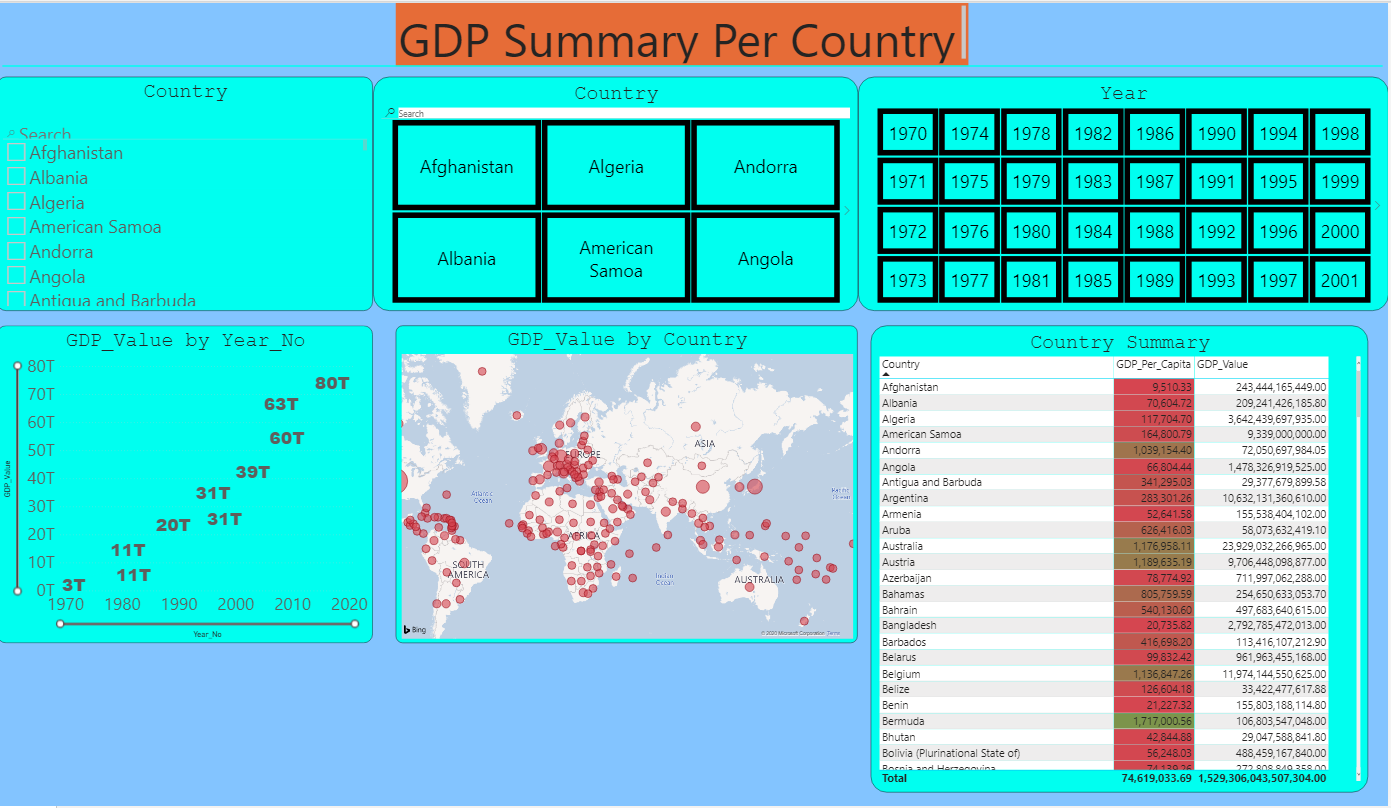

What the dashboard file says about the page in this screenshot:
{"tool":"powerbi","page":{"name":"Page 1","canvas":[2600,1500],"ordinal":0},"visuals":[{"type":"textbox","box":[744.5,0,1070.7,118.2],"z":0},{"type":"basicShape","box":[0,42.6,2600.2,151.4],"z":1000},{"type":"slicer","title":"Country","fields":{"Values":["GDP_Excel_Input.Country"]},"box":[0,137.2,702.7,437.7],"z":2000},{"type":"slicer","title":"Country","fields":{"Values":["GDP_Excel_Input.Country"]},"box":[702.7,137.2,906.2,437.7],"z":3000},{"type":"slicer","title":"Year","fields":{"Values":["GDP_Excel_Input.Year_No"]},"box":[1608.8,137.2,991.3,437.7],"z":4000},{"type":"lineChart","fields":{"Category":["GDP_Excel_Input.Year_No"],"Y":["Sum(GDP_Excel_Input.GDP_Value)"]},"box":[0,603.3,702.7,593.8],"z":5000},{"type":"map","fields":{"Category":["GDP_Excel_Input.Country"],"Size":["Sum(GDP_Excel_Input.GDP_Value)"]},"box":[745.3,603.3,863.6,593.8],"z":6000},{"type":"tableEx","title":"Country Summary","fields":{"Values":["GDP_Excel_Input.Country","Sum(GDP_Excel_Input.GDP_Per_Capita)","Sum(GDP_Excel_Input.GDP_Value)"]},"box":[1632.5,603.3,929.8,873],"z":7000}]}

Visuals, with their boxes in screenshot pixels (x1, y1, x2, y2), scaled from the page's 2600x1500 canvas onto the 1391x808 screenshot:
textbox: (398, 0, 971, 64)
basicShape: (0, 23, 1390, 105)
"Country" slicer: (0, 74, 376, 310)
"Country" slicer: (376, 74, 861, 310)
"Year" slicer: (861, 74, 1390, 310)
lineChart - GDP_Excel_Input.Year_No x Sum(GDP_Excel_Input.GDP_Value): (0, 325, 376, 645)
map - GDP_Excel_Input.Country x Sum(GDP_Excel_Input.GDP_Value): (399, 325, 861, 645)
"Country Summary" tableEx: (873, 325, 1371, 795)
